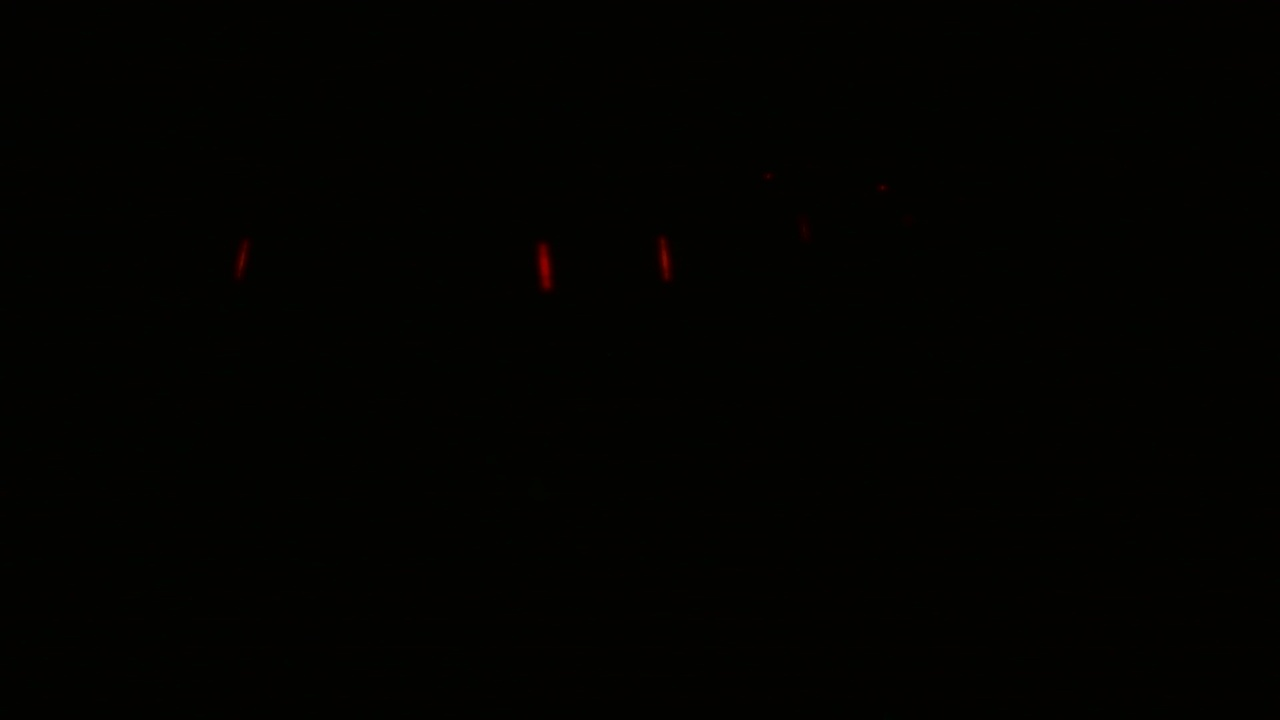pair1: (531, 226, 676, 300)
